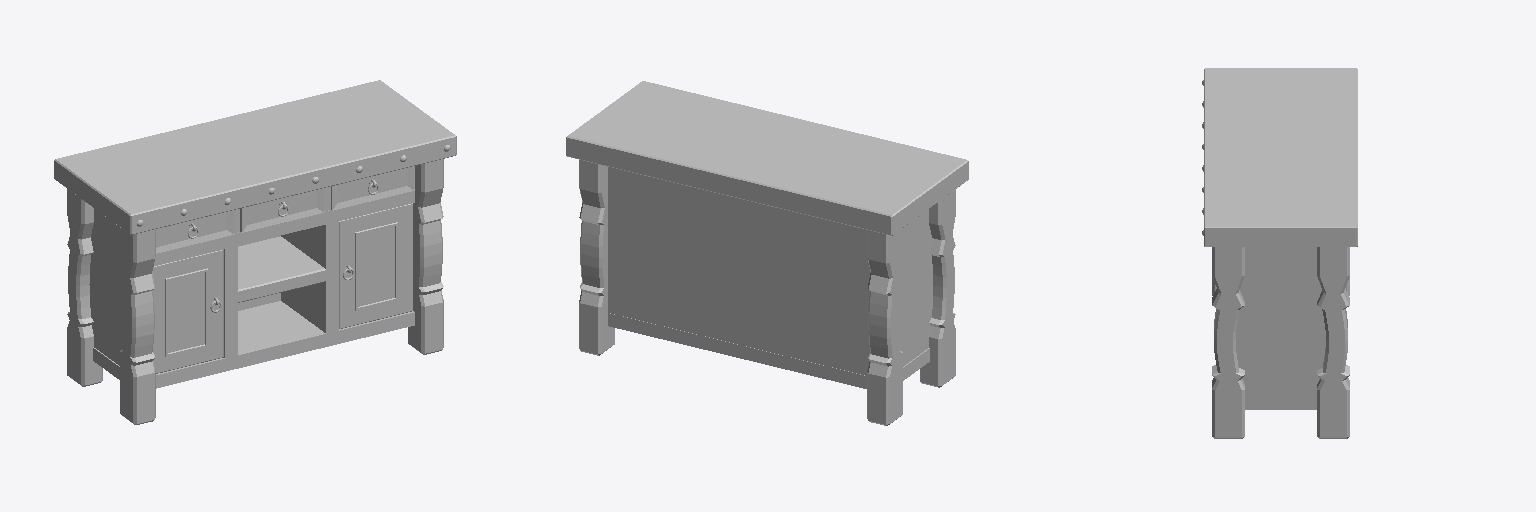
The model's file is Furniture2.obj.
3 renders of one model, left to right at view 1: azimuth 30°, elevation 25°; view 2: azimuth 150°, elevation 25°; view 3: azimuth 270°, elevation 25°, orthographic.
Parts seen in each view (by area): view 1: Cube.004_Cube, Cube.005, Cube.010, Cube.006, Cube.015_Cube.017, Cube.009, Cube.012, Cube.008, Cube.007; view 2: Cube.011, Cube.004_Cube, Cube.005, Cube.012, Cube.006; view 3: Cube.004_Cube, Cube.012, Cube.005, Cube.006.
Boxes of the visible parts, x1,y1,x2,y2 form: Cube.004_Cube: [54, 80, 456, 234]; Cube.005: [67, 159, 443, 424]; Cube.010: [152, 203, 412, 373]; Cube.006: [93, 301, 414, 388]; Cube.015_Cube.017: [156, 166, 413, 253]; Cube.009: [223, 221, 338, 357]; Cube.012: [89, 208, 123, 365]; Cube.008: [238, 236, 325, 302]; Cube.007: [154, 189, 414, 265]; Cube.011: [608, 167, 870, 375]; Cube.004_Cube: [566, 81, 968, 235]; Cube.005: [579, 160, 955, 425]; Cube.012: [899, 209, 932, 366]; Cube.006: [608, 313, 929, 388]; Cube.004_Cube: [1204, 68, 1357, 246]; Cube.012: [1236, 247, 1325, 395]; Cube.005: [1212, 247, 1349, 438]; Cube.006: [1245, 396, 1316, 409].
Size of the model in its own units: 0.9797 by 0.6214 by 0.4043.